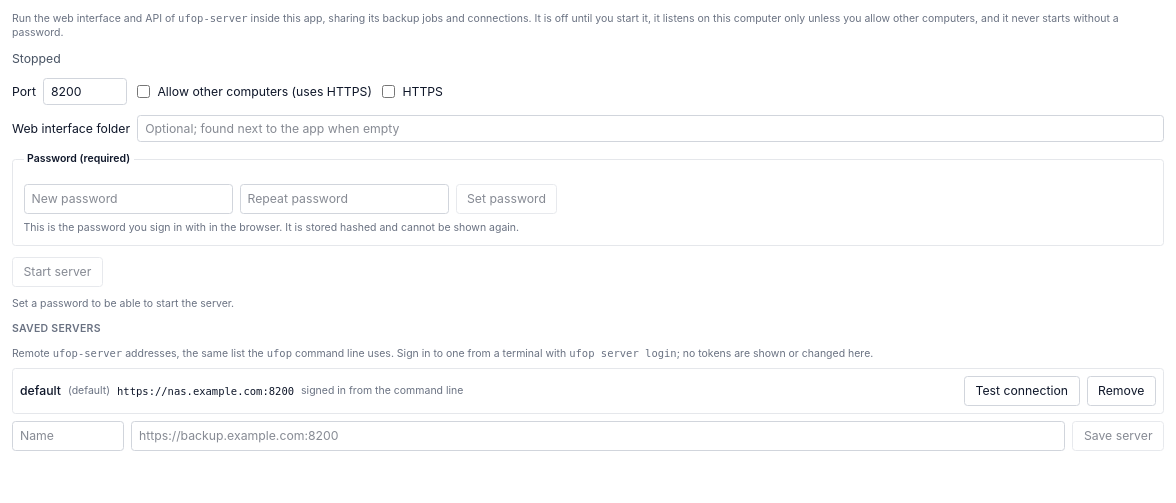
Scenario: Saved servers › reports a failed test and only accepts an untrusted certificate when asked
The image size is (1176, 503).
Click the button "Test connection" at {"x": 1022, "y": 391}, box [964, 376, 1080, 406]
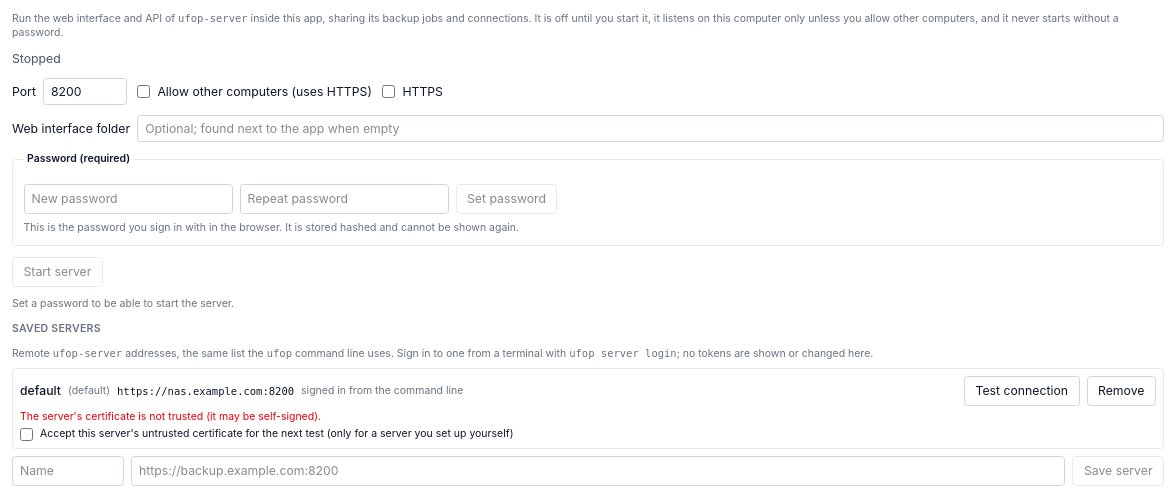
Expected: the list item with test id "server-default" shows "certificate is not trusted", [20, 410, 321, 422]
Click the checkbox labelled "Accept this server's untrusted certificate" at {"x": 26, "y": 434}, box [20, 428, 33, 440]
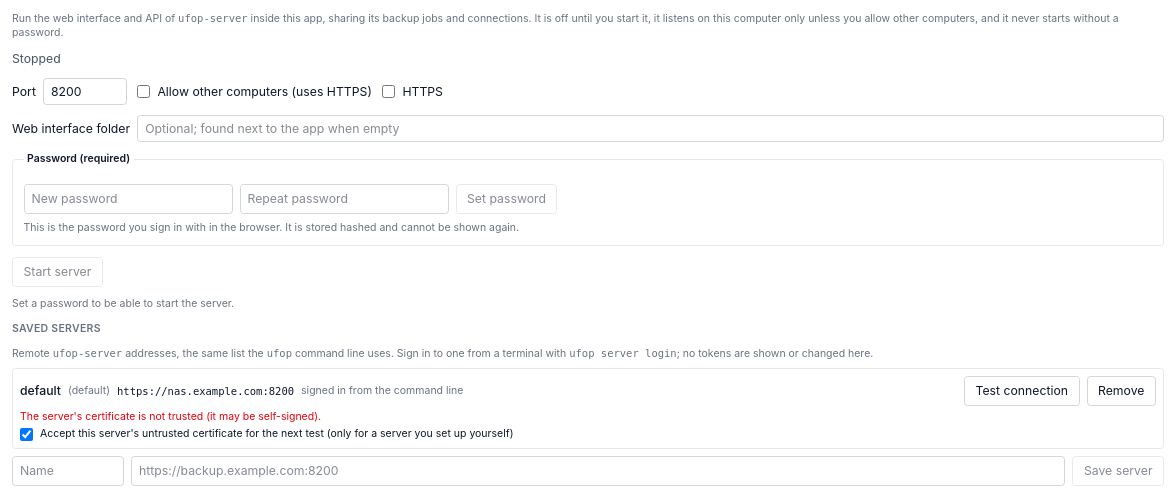
Click the button "Test connection" at {"x": 1022, "y": 391}, box [964, 376, 1080, 406]
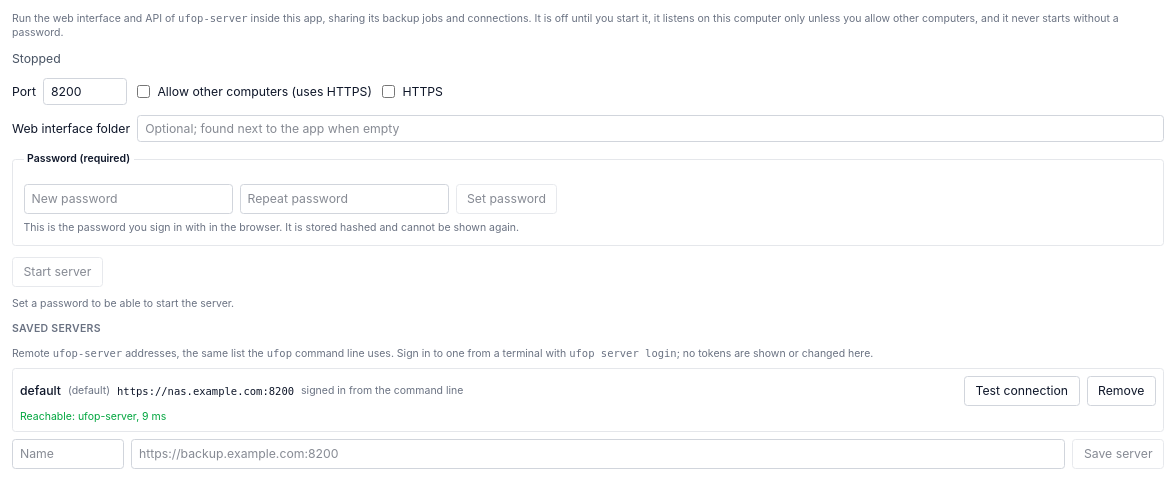
Expected: the list item with test id "server-default" shows "Reachable", [20, 410, 166, 422]
